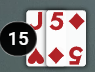5: (46, 10, 66, 32)
j: (27, 10, 45, 33)
